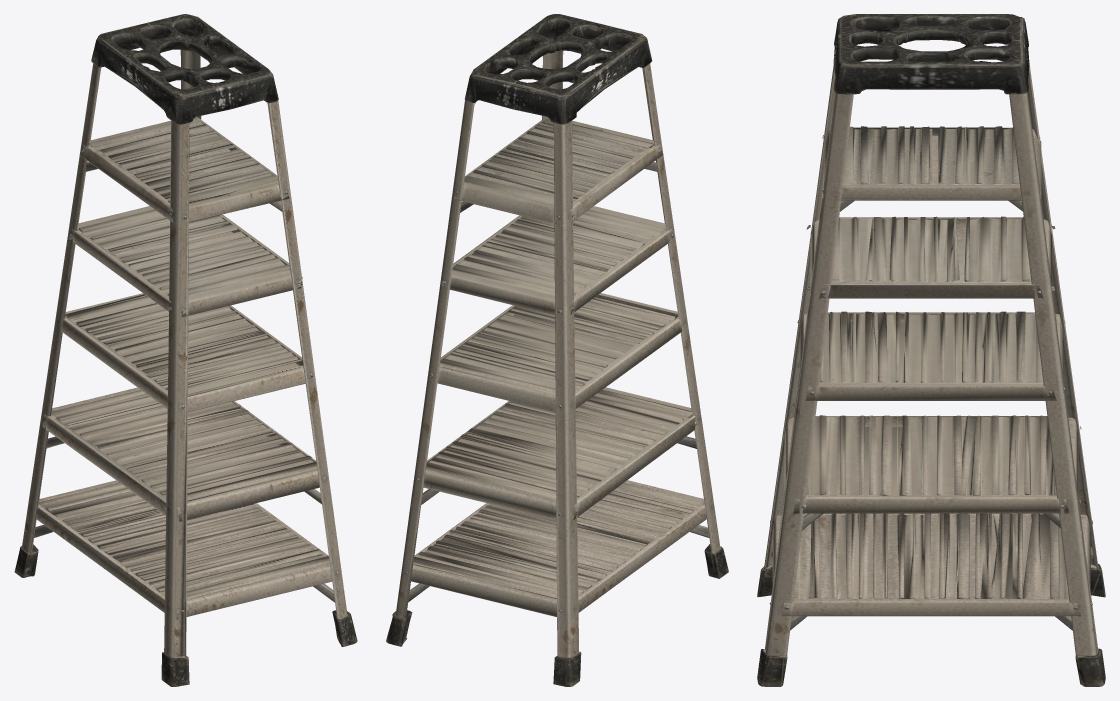
The model's file is p7-step-ladder-t25.glb.
The picture shows the model from 3 angles, left to right: view 1: azimuth 30°, elevation 25°; view 2: azimuth 150°, elevation 25°; view 3: azimuth 270°, elevation 25°; orthographic projection. The views are drawn at different scales.
Visible parts, largest first — view 1: p7-step-ladder-t25; view 2: p7-step-ladder-t25; view 3: p7-step-ladder-t25.
Part boxes in pixels (box(x1,y1,x2,y2)): p7-step-ladder-t25: box(14, 14, 357, 686); p7-step-ladder-t25: box(386, 14, 728, 686); p7-step-ladder-t25: box(757, 14, 1105, 686).
Size of the model in its own units: 0.637 by 1.8 by 0.95.
Materials: 1 (1 with a texture image).
